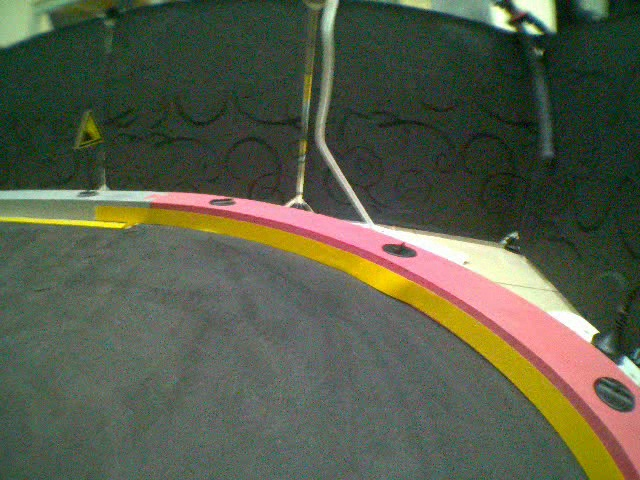fast: (73, 108, 106, 149)
